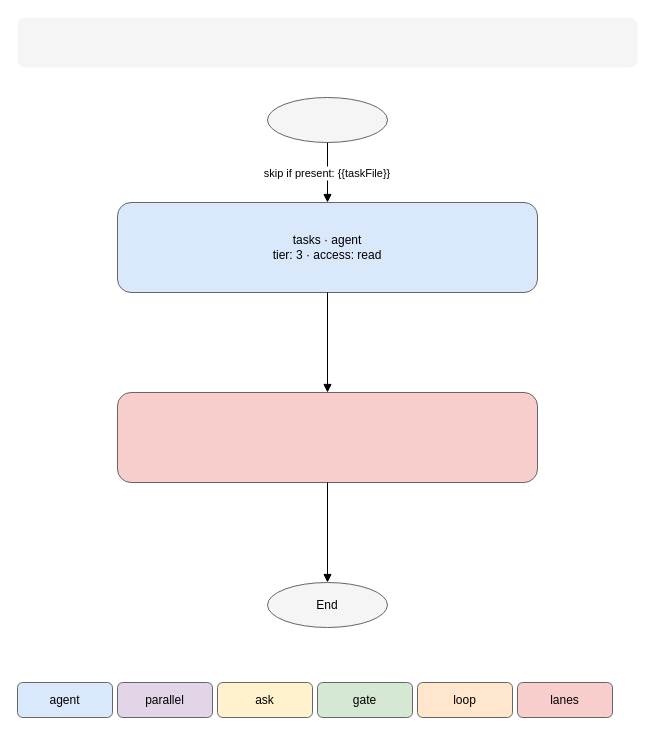
Some shapes in this 655 by 735 pixel diagram are drawn without their labels. Each missing label, with the centre of its shape:
execute · lanes phases in order, [P] tasks in parallel worktrees, merge, gates: the point at 327,437
Start: the point at 327,119
Workflow · budget: 128 calls: the point at 327,42
